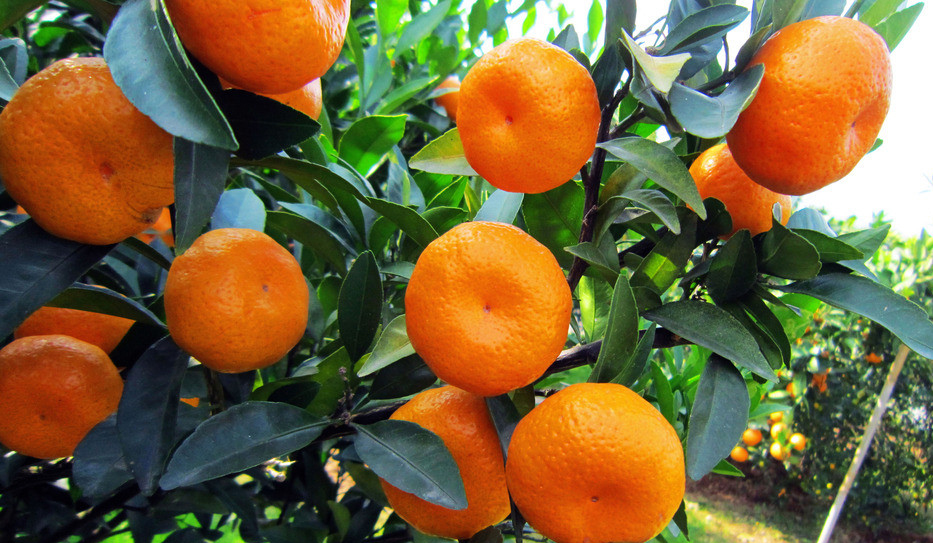orange: (1, 58, 186, 241), (402, 222, 572, 396), (508, 380, 684, 543), (728, 16, 889, 193), (372, 385, 526, 538), (457, 38, 599, 191), (164, 229, 307, 373), (168, 1, 352, 93), (163, 1, 349, 92), (1, 332, 123, 459), (678, 139, 796, 251)
